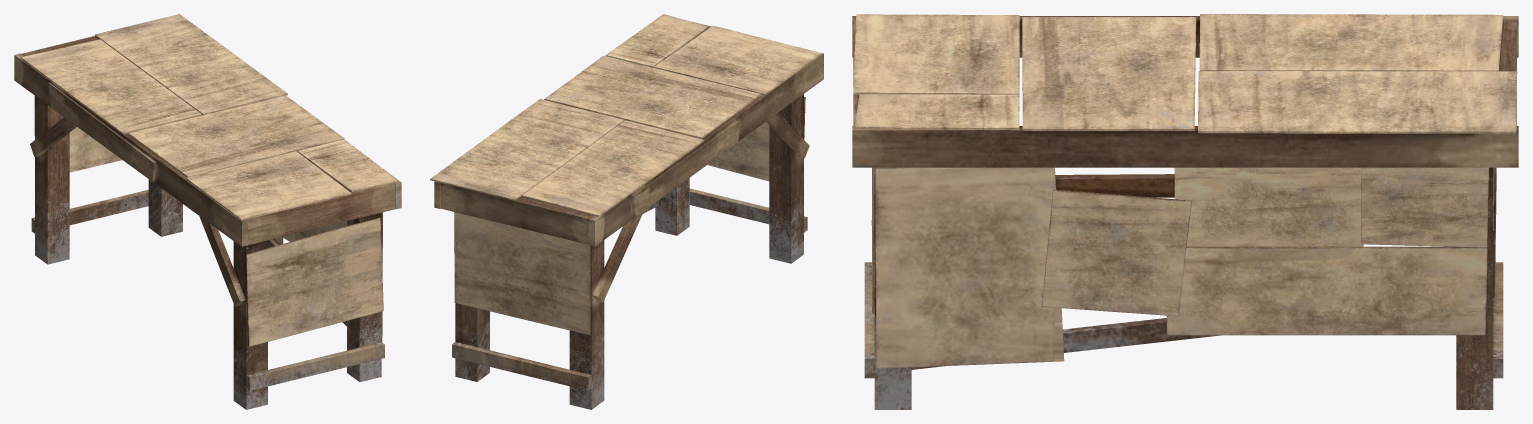
File: table.glb
3 renders of one model, left to right at view 1: azimuth 30°, elevation 25°; view 2: azimuth 150°, elevation 25°; view 3: azimuth 270°, elevation 25°, orthographic. The views are drawn at different scales.
Parts seen in each view (by area): view 1: Wooden_table_1_Material #35_0; view 2: Wooden_table_1_Material #35_0; view 3: Wooden_table_1_Material #35_0.
Boxes of the visible parts, x1,y1,x2,y2 form: Wooden_table_1_Material #35_0: (14, 14, 401, 409); Wooden_table_1_Material #35_0: (430, 14, 823, 409); Wooden_table_1_Material #35_0: (852, 14, 1518, 409).
Bounding box in the file's own units: 199 × 226 × 470.
Materials: 1 (1 with a texture image).
